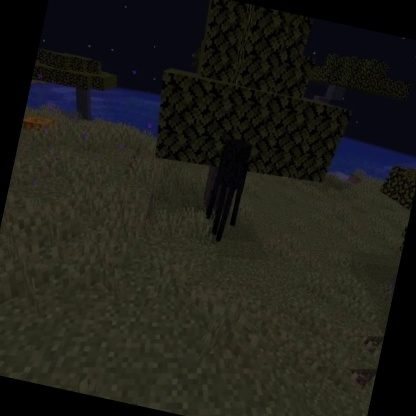enderman: (198, 134, 256, 249)
